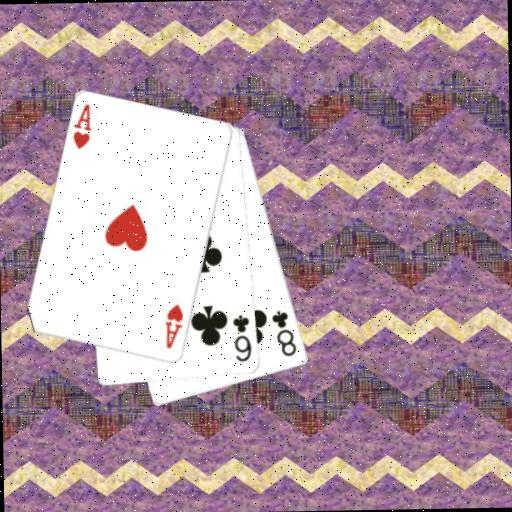6C: (230, 313, 254, 364)
8C: (269, 308, 299, 359)
AH: (69, 101, 94, 151), (162, 302, 186, 351)
